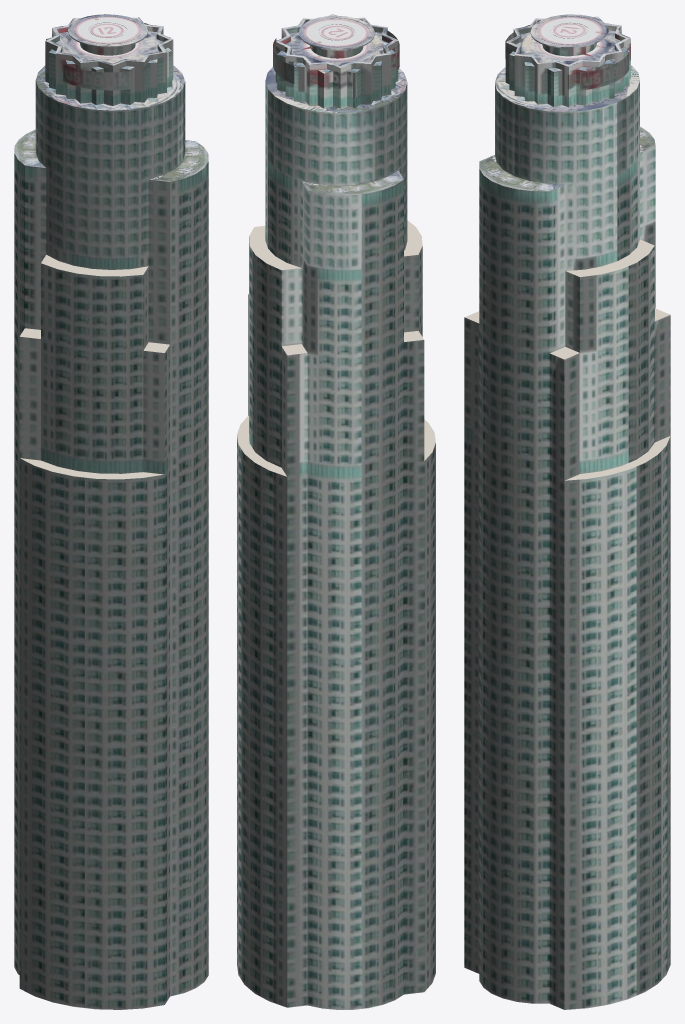
File: building-skyscraper-c.glb
The picture shows the model from 3 angles, left to right: view 1: azimuth 30°, elevation 25°; view 2: azimuth 150°, elevation 25°; view 3: azimuth 270°, elevation 25°; orthographic projection.
Visible parts, largest first — view 1: Us_Bank_Tower; view 2: Us_Bank_Tower; view 3: Us_Bank_Tower.
Boxes of the visible parts, box(x1,y1,x2,y2) form: Us_Bank_Tower: box(14, 14, 208, 1009); Us_Bank_Tower: box(237, 14, 435, 1009); Us_Bank_Tower: box(464, 14, 670, 1009).
Size of the model in its own units: 1.24 by 6.21 by 1.24.
5 materials, 5 textured.
